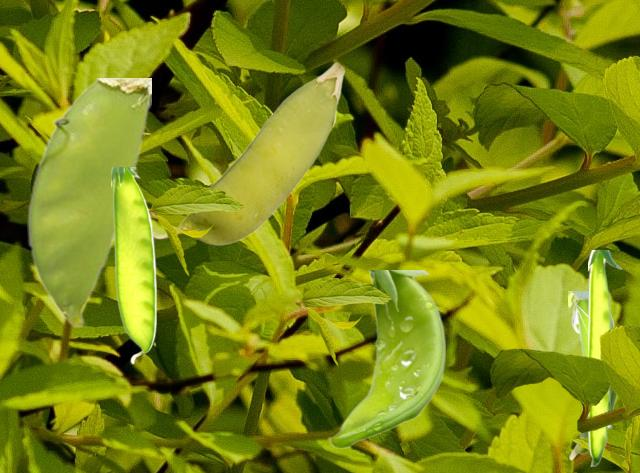pea: (154, 62, 344, 244), (27, 78, 150, 326), (327, 270, 444, 447), (111, 167, 155, 363), (568, 291, 617, 459), (588, 250, 621, 465)
